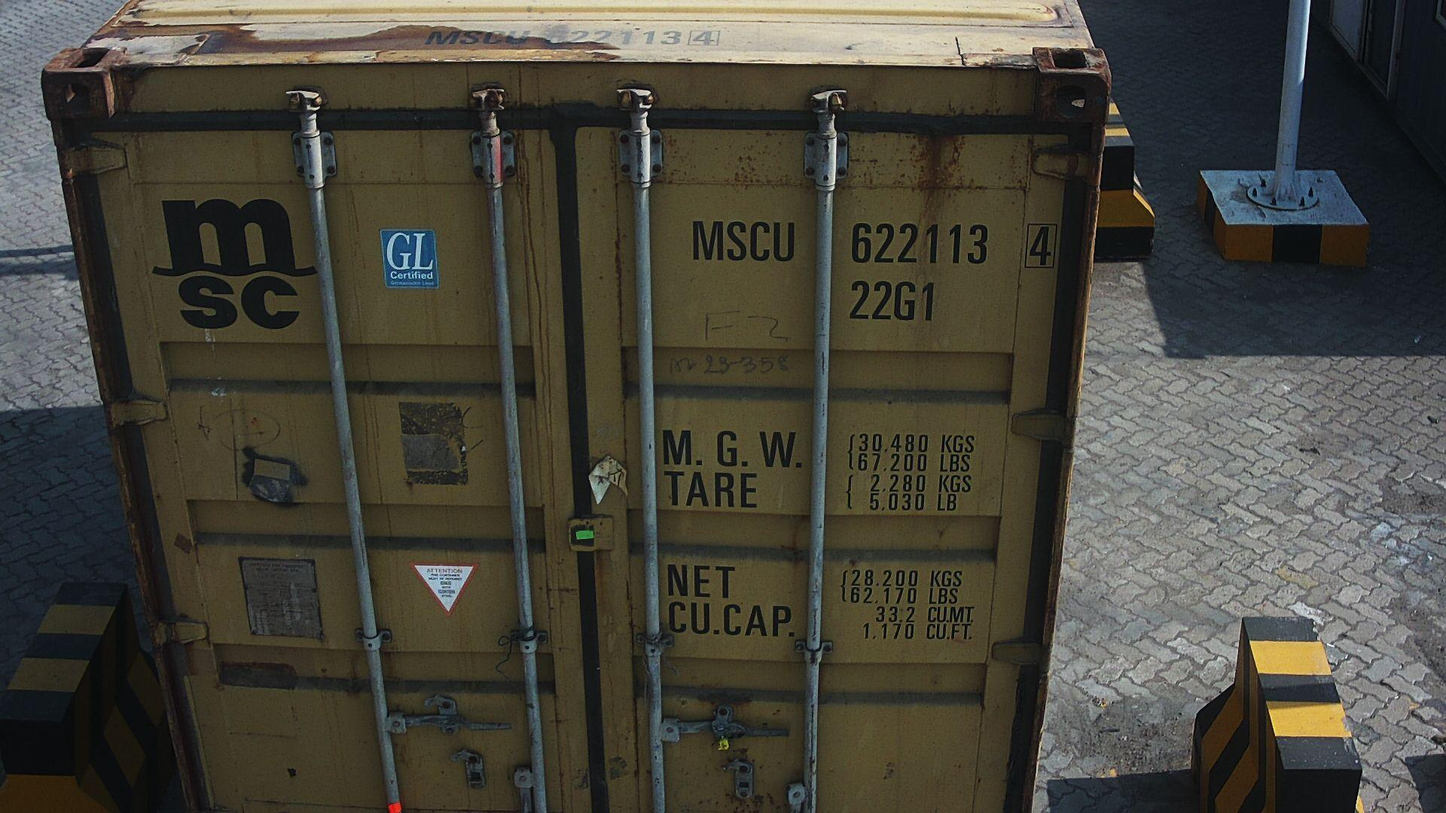container-numbers: (686, 217, 1062, 273), (845, 276, 940, 325)
